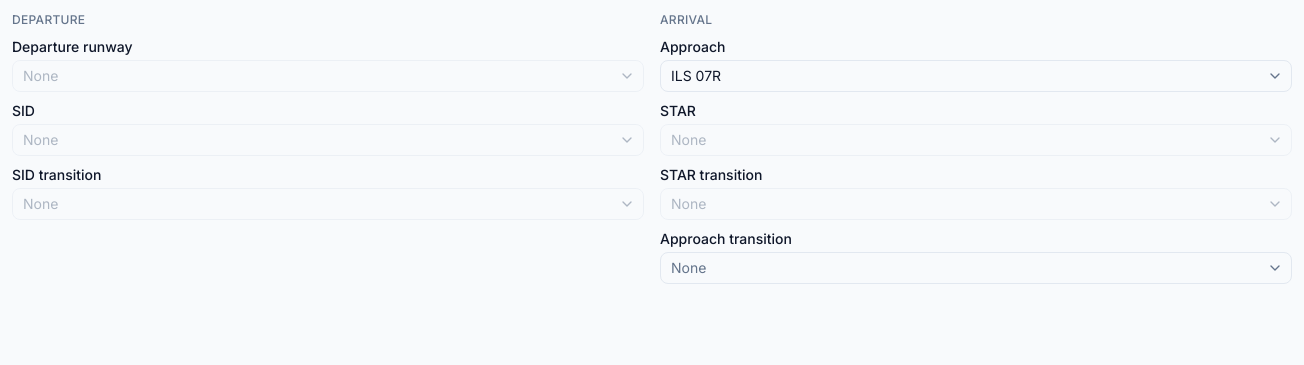
it: ProcedureSelector › offers Visual as an approach and Vectors as its only transition, and filters STARs by its runway
This screenshot has width=1304, height=365.
Click the dropdown labelled "ILS 07R" at (696, 76), box left=660, top=60, right=1292, bottom=92
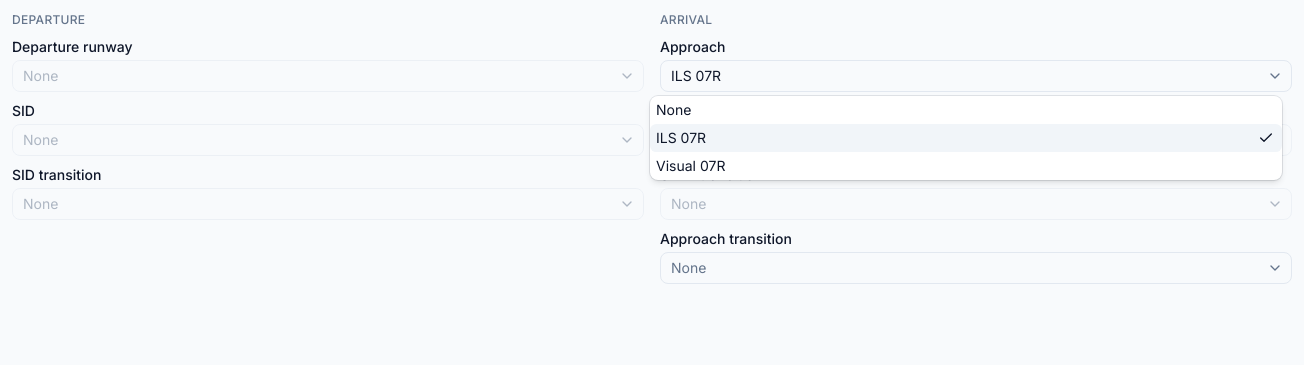
Click the option "Visual 07R" at (691, 166), box left=656, top=157, right=725, bottom=174
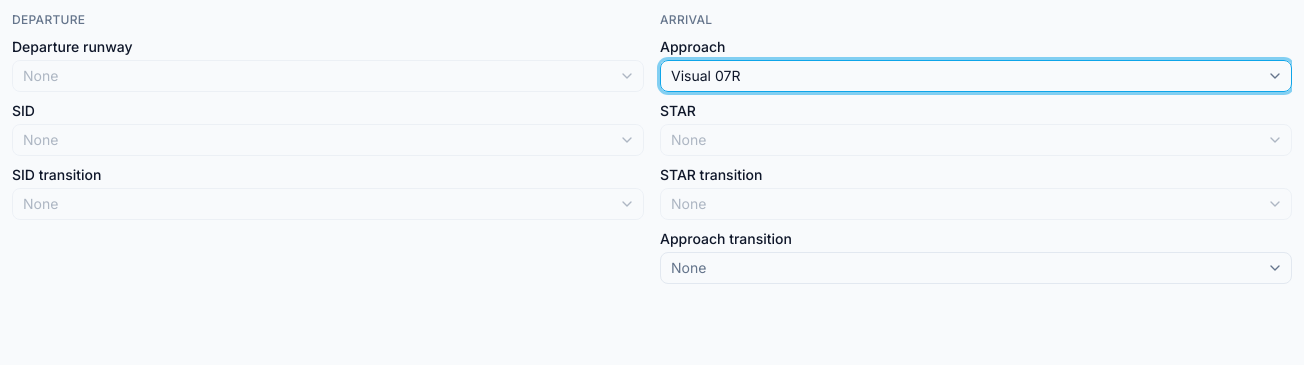
Click the dropdown labelled "None" below "Approach transition" at (689, 268), box left=660, top=252, right=1292, bottom=284
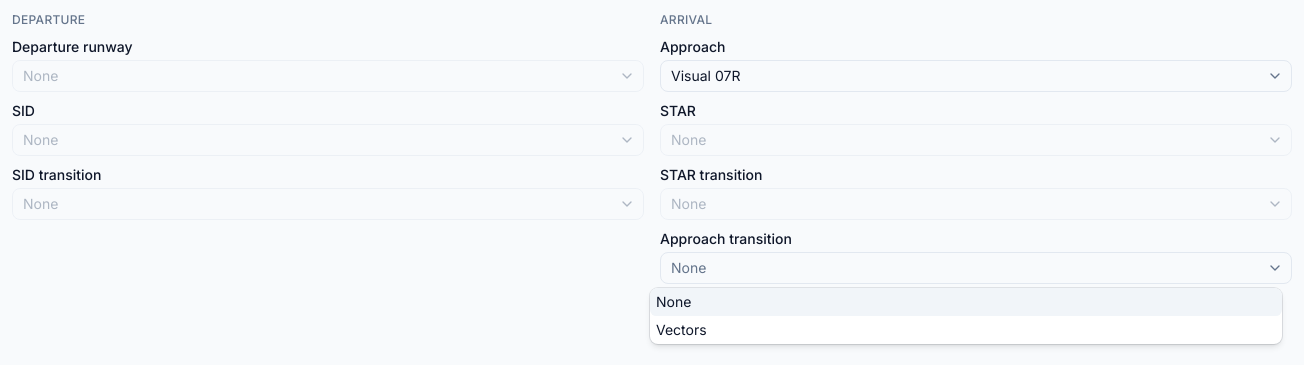
Expected: the dropdown labelled "ILS 07R" is not shown
Result: the option "Vectors" is shown at left=656, top=321, right=707, bottom=338
